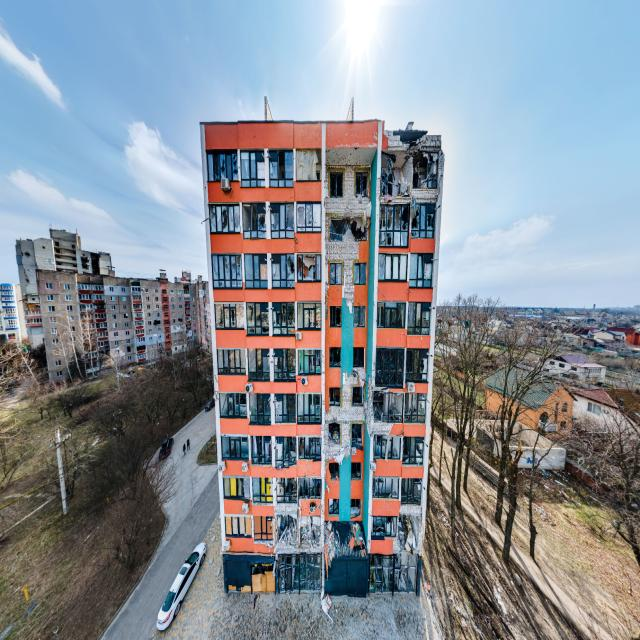building: (199, 108, 444, 598), (14, 224, 210, 386)
